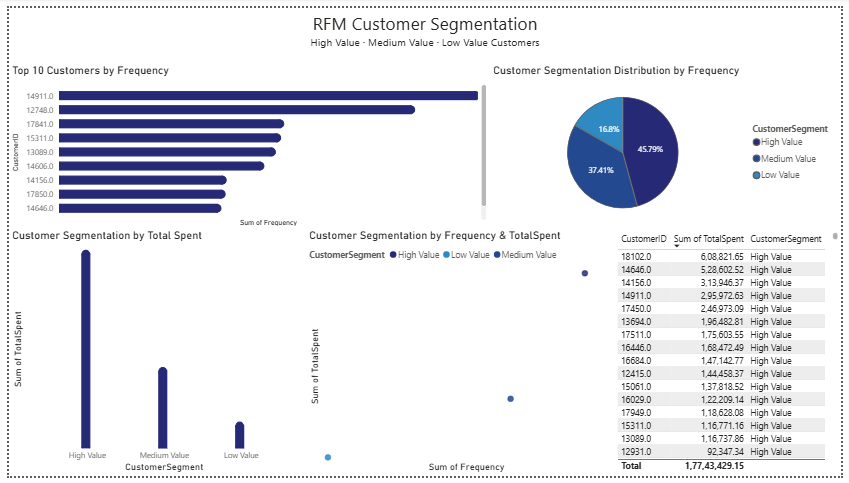

This screenshot's page, from the dashboard's own definition file:
{"tool":"powerbi","page":{"name":"RFM customer segment","canvas":[1280,720],"ordinal":3},"visuals":[{"type":"clusteredColumnChart","title":"Customer Segmentation by Total Spent","fields":{"Category":["ecommerce_db customer_segments.CustomerSegment"],"Y":["Sum(ecommerce_db customer_segments.TotalSpent)"]},"box":[0,340.6,457.1,379.4],"z":0},{"type":"scatterChart","title":"Customer Segmentation by Frequency & TotalSpent","fields":{"Series":["ecommerce_db customer_segments.CustomerSegment"],"X":["Sum(ecommerce_db customer_segments.Frequency)"],"Y":["Sum(ecommerce_db customer_segments.TotalSpent)"]},"box":[457.1,340.6,473.5,379.4],"z":1000},{"type":"tableEx","fields":{"Values":["ecommerce_db customer_segments.CustomerID","Sum(ecommerce_db customer_segments.TotalSpent)","ecommerce_db customer_segments.CustomerSegment"]},"box":[930.6,340.6,349.5,379.4],"z":2000},{"type":"barChart","title":"Top 10 Customers by Frequency","fields":{"Category":["ecommerce_db customer_segments.CustomerID"],"Y":["Sum(ecommerce_db customer_segments.Frequency)"]},"box":[0,86.6,739.4,253.9],"z":2001},{"type":"pieChart","title":"Customer Segmentation Distribution by Frequency","fields":{"Category":["ecommerce_db customer_segments.CustomerSegment"],"Y":["Sum(ecommerce_db customer_segments.Frequency)"]},"box":[739.4,86.6,540.7,253.9],"z":2002},{"type":"textbox","box":[0,0,1280.2,86.6],"z":2003}]}

Visuals, with their boxes in screenshot pixels (x1, y1, x2, y2), scaled from the page's 1280x720 canvas onto the 849x483 screenshot:
"Customer Segmentation by Total Spent" clusteredColumnChart: 0 228 303 482
"Customer Segmentation by Frequency & TotalSpent" scatterChart: 303 228 617 482
tableEx - ecommerce_db customer_segments.CustomerID x Sum(ecommerce_db customer_segments.TotalSpent): 617 228 848 482
"Top 10 Customers by Frequency" barChart: 0 58 490 228
"Customer Segmentation Distribution by Frequency" pieChart: 490 58 848 228
textbox: 0 0 848 58
